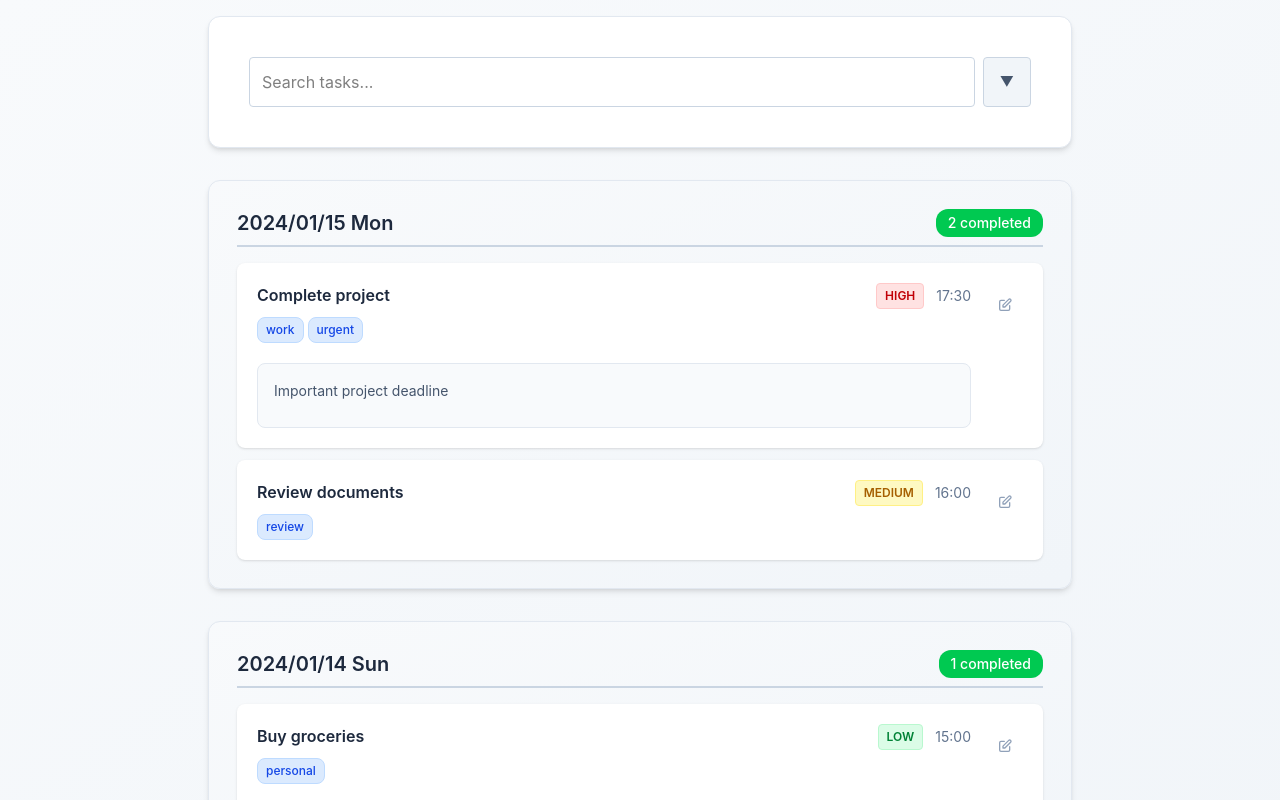
Test: Archive Component › Archive Filter Functionality › clears all filters when clear button is clicked
The width and height of the screenshot is (1280, 800).
Expected: the heading "Complete project" is shown, top-left (257, 285), bottom-right (390, 305)
# Apply multiple filters
In the field with placeholder "Search tasks...": point(612, 82) top-left (249, 57), bottom-right (975, 107), type "project"
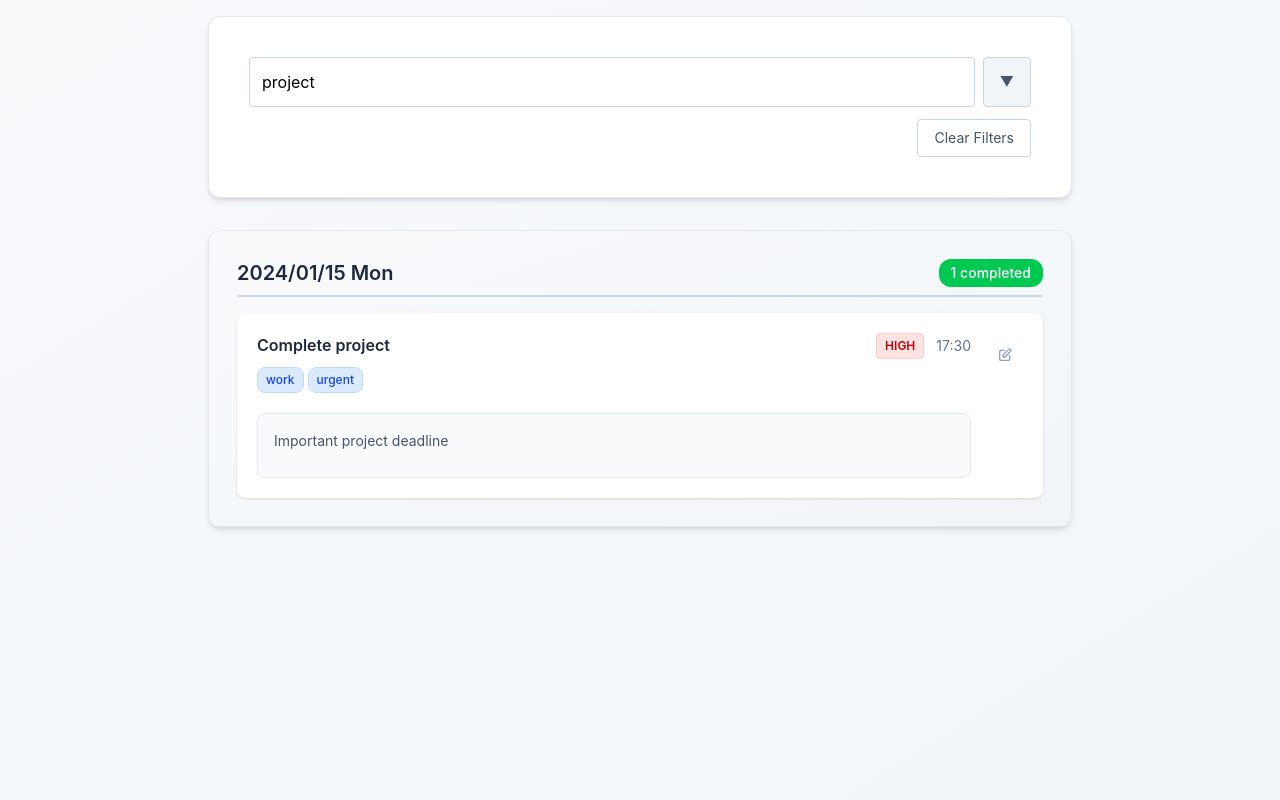
# Show advanced filters first
Click the button named "Show advanced filters": point(1007, 82) top-left (983, 57), bottom-right (1031, 107)
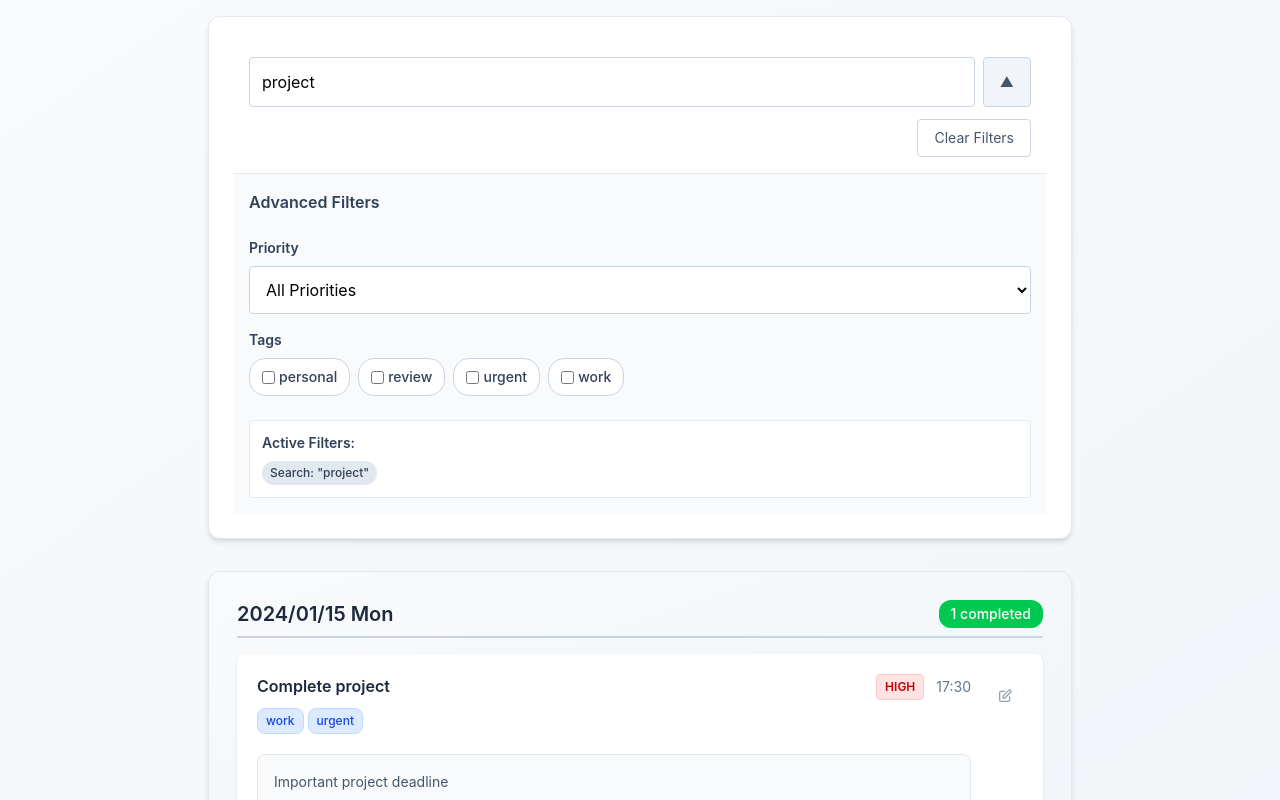
Select "High" in the dropdown labelled "Priority": point(640, 290) top-left (249, 266), bottom-right (1031, 314)
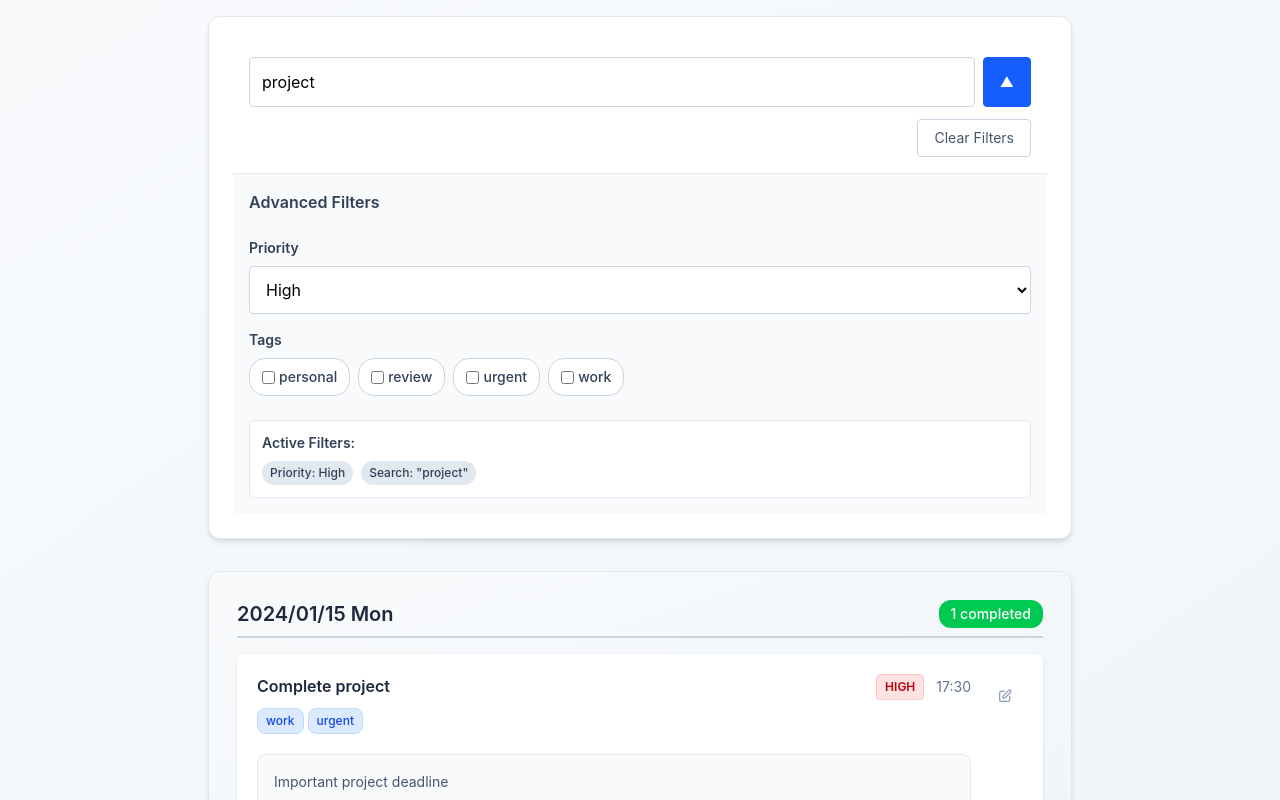
Now the button "Clear Filters" is shown
# Clear all filters
Click the button "Clear Filters": point(974, 138) top-left (918, 119), bottom-right (1031, 157)
(page scrolled)
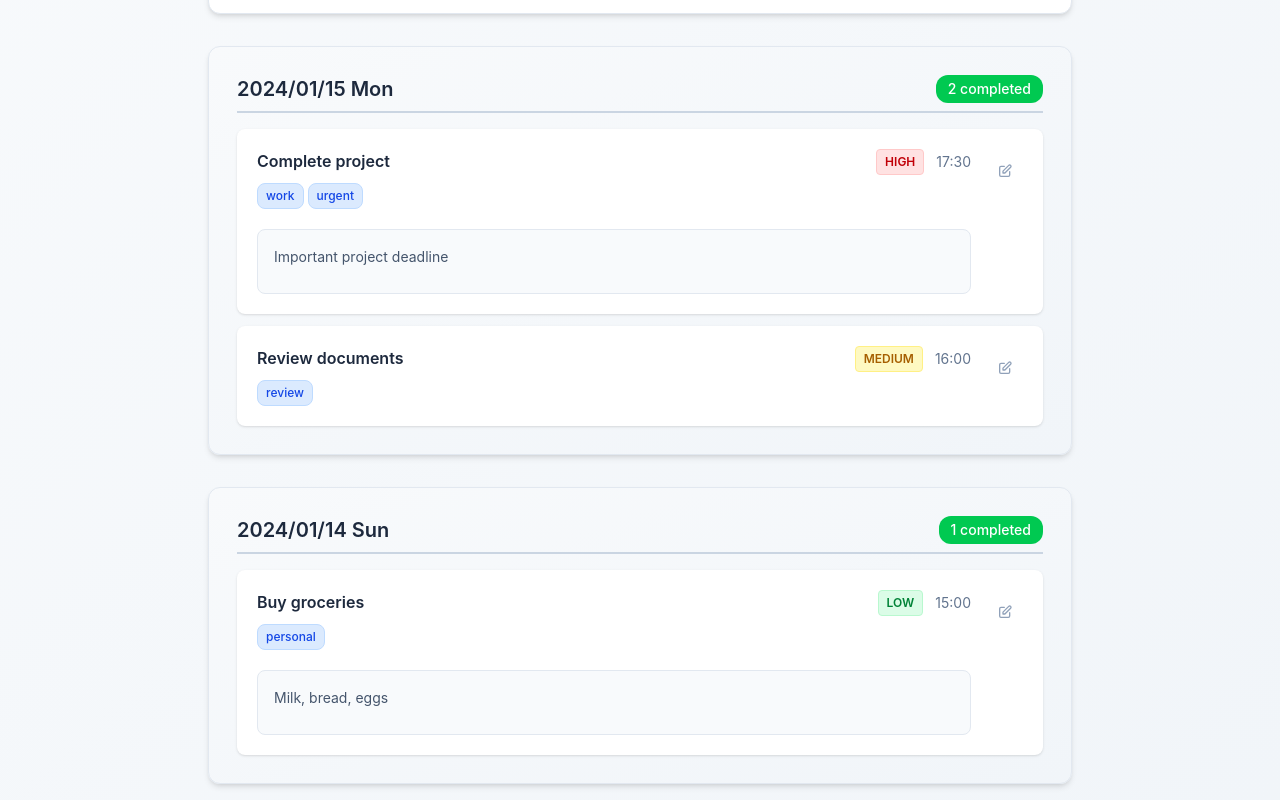
Expected: the heading "Complete project" is shown, top-left (257, 151), bottom-right (390, 171)
Now the heading "Review documents" is shown, box top-left (257, 348), bottom-right (404, 368)
Now the heading "Buy groceries" is shown, box top-left (257, 592), bottom-right (364, 612)
